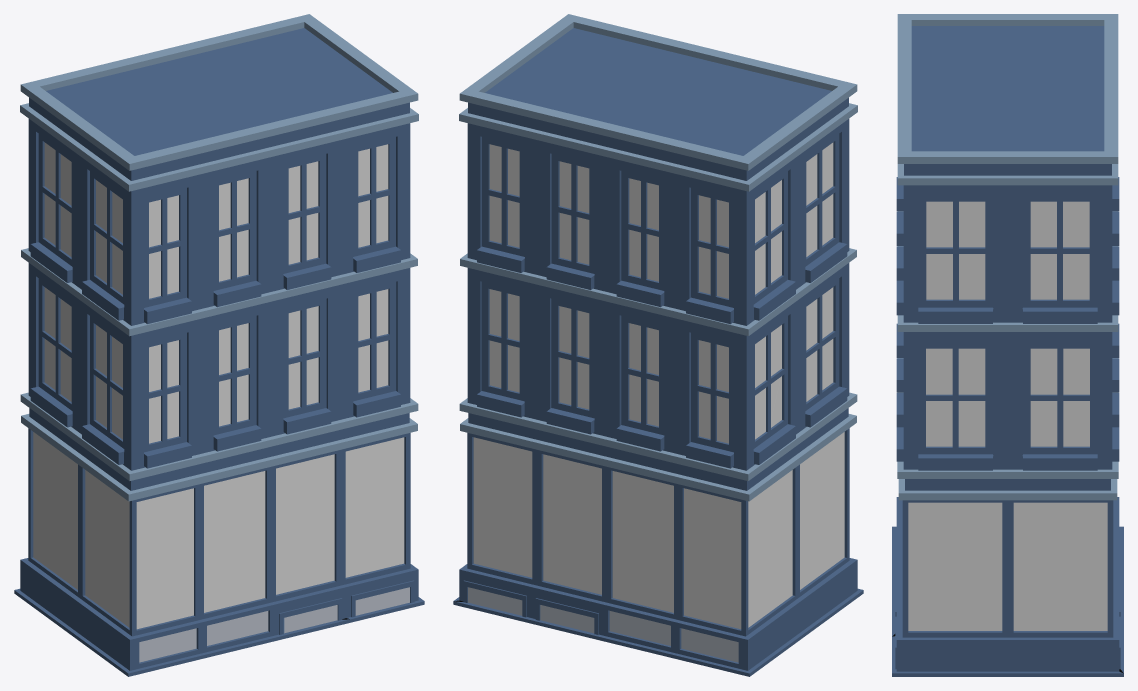
Rendered from cb-apartment-J.fbx.
The picture shows the model from 3 angles, left to right: view 1: azimuth 30°, elevation 25°; view 2: azimuth 150°, elevation 25°; view 3: azimuth 270°, elevation 25°; orthographic projection.
Parts seen in each view (by area): view 1: cb-apartment-J; view 2: cb-apartment-J; view 3: cb-apartment-J.
Part boxes in pixels (box(x1,y1,x2,y2)): cb-apartment-J: box(14, 14, 424, 676); cb-apartment-J: box(453, 14, 863, 676); cb-apartment-J: box(892, 14, 1123, 676).
Size of the model in its own units: 10.84 by 17.82 by 7.23.
